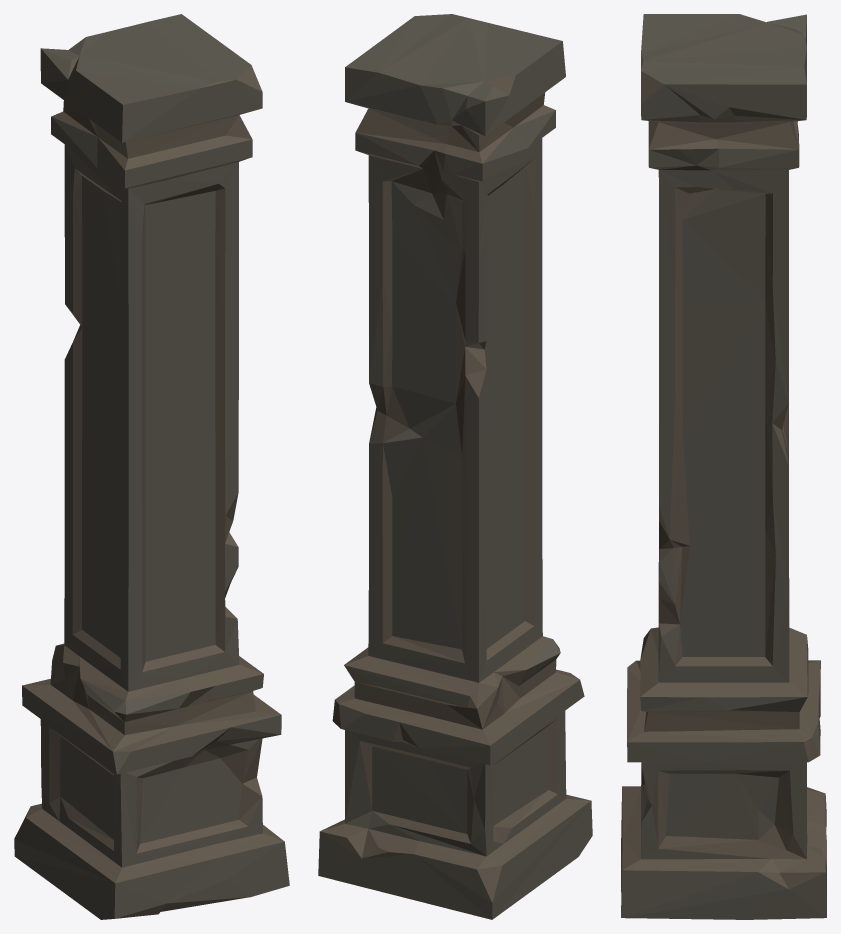
File: synty-prop-pillar-01.gltf
The picture shows the model from 3 angles, left to right: view 1: azimuth 30°, elevation 25°; view 2: azimuth 150°, elevation 25°; view 3: azimuth 270°, elevation 25°; orthographic projection. The views are drawn at different scales.
Parts seen in each view (by area): view 1: SM_Prop_Pillar_01; view 2: SM_Prop_Pillar_01; view 3: SM_Prop_Pillar_01.
Part boxes in pixels (bbox=[...]): SM_Prop_Pillar_01: bbox=[14, 14, 289, 919]; SM_Prop_Pillar_01: bbox=[318, 14, 592, 919]; SM_Prop_Pillar_01: bbox=[621, 14, 826, 919].
Size of the model in its own units: 0.6337 by 2.81 by 0.6337.
1 material, 1 textured.
